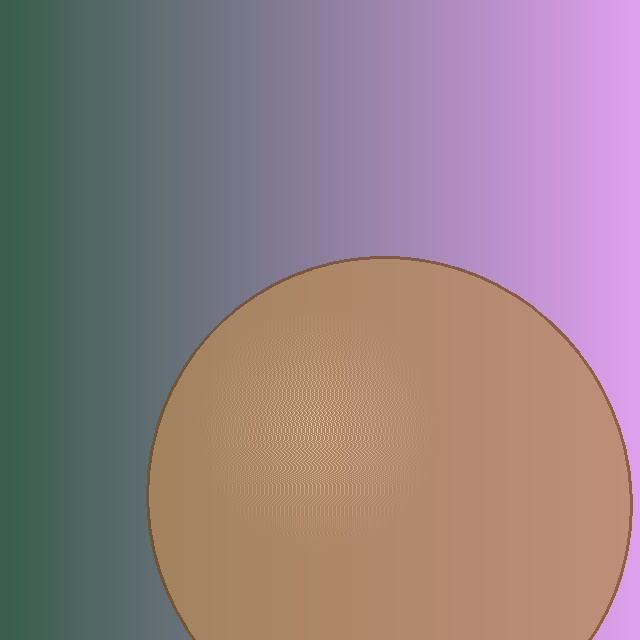lens: (149, 259, 629, 640)
